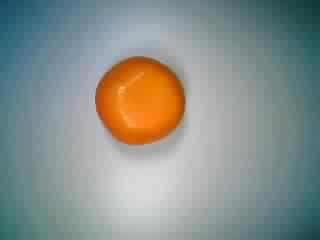orange: (90, 53, 187, 149)
